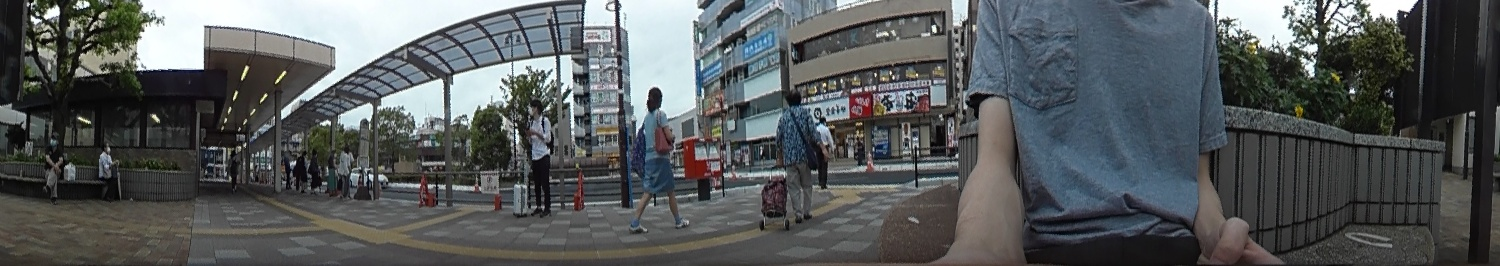difficult_person: (339, 147, 355, 201), (325, 147, 340, 195), (294, 151, 309, 195), (227, 151, 240, 190), (309, 149, 320, 191), (282, 151, 291, 186), (853, 137, 863, 163)
person: (635, 86, 685, 229), (777, 89, 812, 224), (521, 97, 554, 214), (40, 131, 63, 204), (814, 118, 836, 190), (96, 141, 117, 202)
